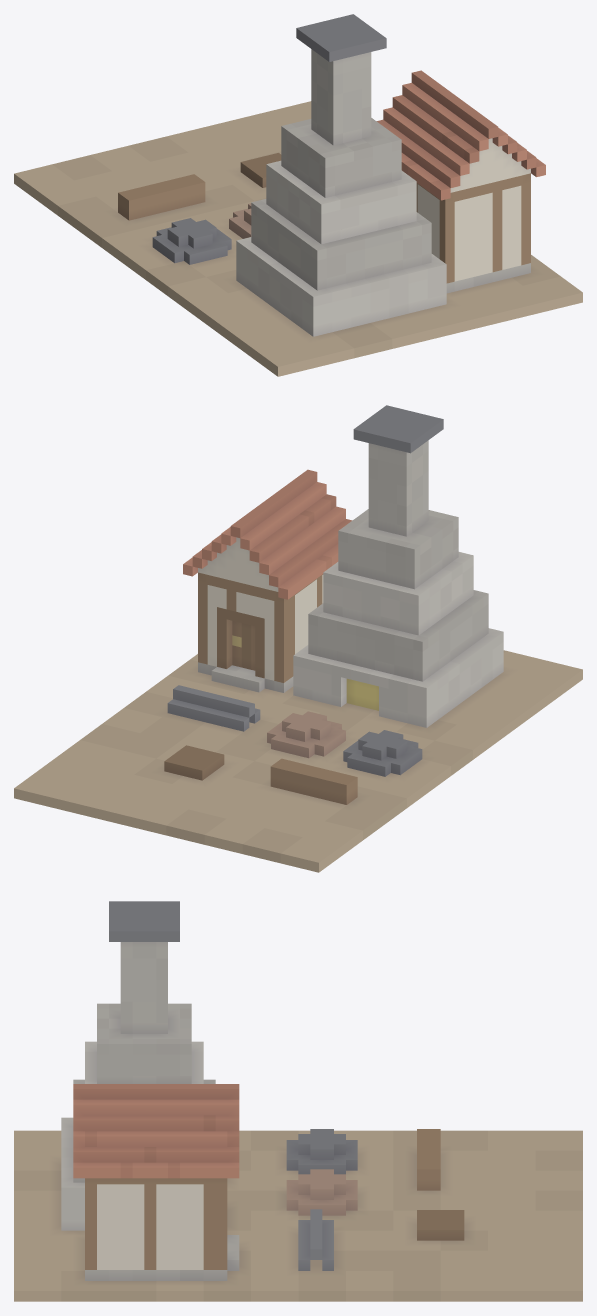
Rendered from smelter.glb.
3 renders of one model, top to bottom at view 1: azimuth 30°, elevation 25°; view 2: azimuth 150°, elevation 25°; view 3: azimuth 270°, elevation 25°, orthographic. The views are drawn at different scales.
Visible parts, largest first — view 1: smelter; view 2: smelter; view 3: smelter.
Part boxes in pixels (x1,y1,x2,y2): smelter: (14,14,582,376); smelter: (14,405,582,872); smelter: (14,901,582,1301).
Size of the model in its own units: 4 by 3.38 by 6.
